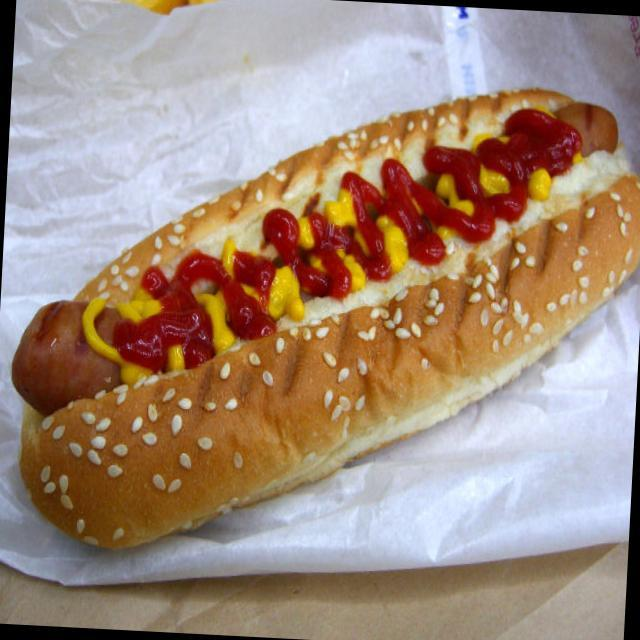Hot Dog: (0, 27, 640, 584)
